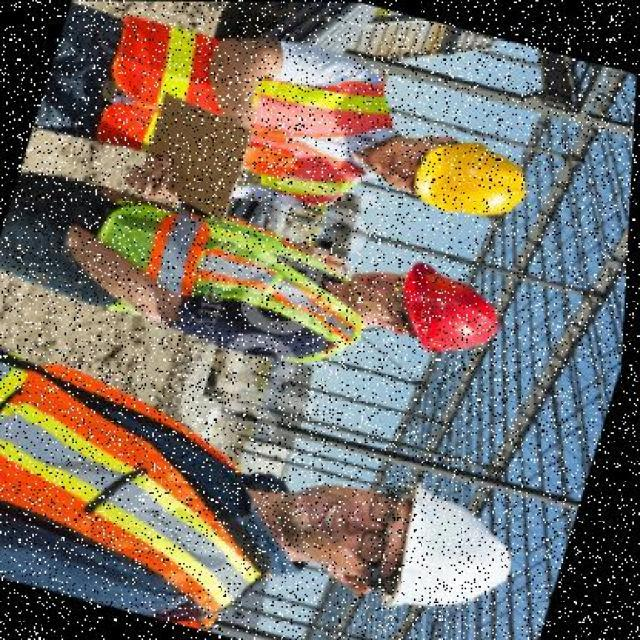helmet: (368, 473, 540, 637), (377, 254, 514, 370), (402, 129, 542, 233)
vest: (0, 356, 318, 638), (82, 14, 398, 216), (94, 196, 387, 364)
